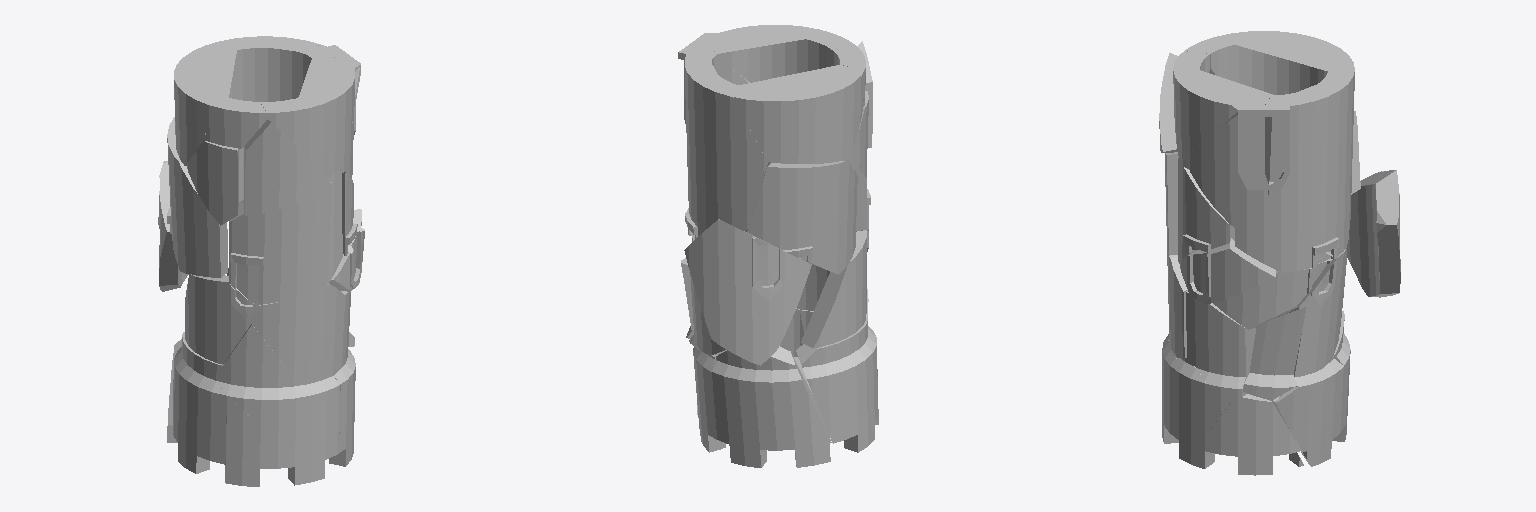
Rendered from destruction_tower_000022.obj.
The picture shows the model from 3 angles: view 1: azimuth 30°, elevation 25°; view 2: azimuth 150°, elevation 25°; view 3: azimuth 270°, elevation 25°; orthographic projection.
Parts seen in each view (by area): view 1: tower.001_cell.024_Mesh.024, tower.001_cell.028_Mesh.028, tower.001_cell.021_Mesh.021, tower.001_cell.006_Mesh.006, tower.001_cell.011_Mesh.011, tower.001_cell.002_Mesh.002, tower.001_cell.003_Mesh.003, tower.001_cell.013_Mesh.013, tower.001_cell.015_Mesh.015, tower.001_cell.009_Mesh.009, tower.001_cell.017_Mesh.017, tower.001_cell.014_Mesh.014 (+9 smaller); view 2: tower.001_cell.025_Mesh.025, tower.001_cell.007_Mesh.007, tower.001_cell.017_Mesh.017, tower.001_cell.015_Mesh.015, tower.001_cell.003_Mesh.003, tower.001_cell.005_Mesh.005, tower.001_cell.028_Mesh.028, tower.001_cell.009_Mesh.009, tower.001_cell.029_Mesh.029, tower.001_cell.006_Mesh.006, tower.001_cell.012_Mesh.012, tower.001_cell.014_Mesh.014 (+5 smaller); view 3: tower.001_cell.017_Mesh.017, tower.001_cell.020_Mesh.020, tower.001_cell.025_Mesh.025, tower.001_cell.015_Mesh.015, tower.001_cell.028_Mesh.028, tower.001_cell.030_Mesh.030, tower.001_cell_Mesh, tower.001_cell.029_Mesh.029, tower.001_cell.012_Mesh.012, tower.001_cell.016_Mesh.016, tower.001_cell.010_Mesh.010, tower.001_cell.023_Mesh.023 (+11 smaller).
Part boxes in pixels (x1,y1,x2,y2): tower.001_cell.024_Mesh.024: (229, 182, 331, 305); tower.001_cell.028_Mesh.028: (260, 58, 360, 178); tower.001_cell.021_Mesh.021: (252, 284, 345, 387); tower.001_cell.006_Mesh.006: (177, 391, 268, 486); tower.001_cell.011_Mesh.011: (269, 378, 340, 485); tower.001_cell.002_Mesh.002: (243, 120, 329, 215); tower.001_cell.003_Mesh.003: (167, 117, 227, 277); tower.001_cell.013_Mesh.013: (221, 324, 302, 434); tower.001_cell.015_Mesh.015: (174, 42, 236, 165); tower.001_cell.009_Mesh.009: (185, 274, 251, 364); tower.001_cell.017_Mesh.017: (216, 36, 320, 201); tower.001_cell.014_Mesh.014: (187, 141, 238, 225); tower.001_cell.025_Mesh.025: (684, 219, 811, 365); tower.001_cell.007_Mesh.007: (712, 346, 831, 467); tower.001_cell.017_Mesh.017: (685, 57, 770, 238); tower.001_cell.015_Mesh.015: (734, 65, 863, 163); tower.001_cell.003_Mesh.003: (747, 161, 857, 274); tower.001_cell.005_Mesh.005: (796, 317, 876, 443); tower.001_cell.028_Mesh.028: (704, 25, 851, 82); tower.001_cell.009_Mesh.009: (801, 230, 868, 347); tower.001_cell.029_Mesh.029: (693, 347, 722, 452); tower.001_cell.006_Mesh.006: (844, 338, 878, 452); tower.001_cell.012_Mesh.012: (689, 274, 725, 355); tower.001_cell.014_Mesh.014: (844, 91, 868, 178); tower.001_cell.017_Mesh.017: (1297, 68, 1354, 258); tower.001_cell.020_Mesh.020: (1186, 103, 1271, 227); tower.001_cell.025_Mesh.025: (1346, 170, 1400, 297); tower.001_cell.015_Mesh.015: (1235, 31, 1354, 94); tower.001_cell.028_Mesh.028: (1173, 51, 1272, 159); tower.001_cell.030_Mesh.030: (1189, 394, 1301, 475); tower.001_cell_Mesh: (1186, 291, 1255, 398); tower.001_cell.029_Mesh.029: (1276, 356, 1343, 466); tower.001_cell.012_Mesh.012: (1283, 249, 1346, 386); tower.001_cell.016_Mesh.016: (1243, 307, 1306, 400); tower.001_cell.010_Mesh.010: (1179, 238, 1275, 303); tower.001_cell.023_Mesh.023: (1172, 358, 1233, 462).
Size of the model in its own units: 46.38 by 96.99 by 56.78.